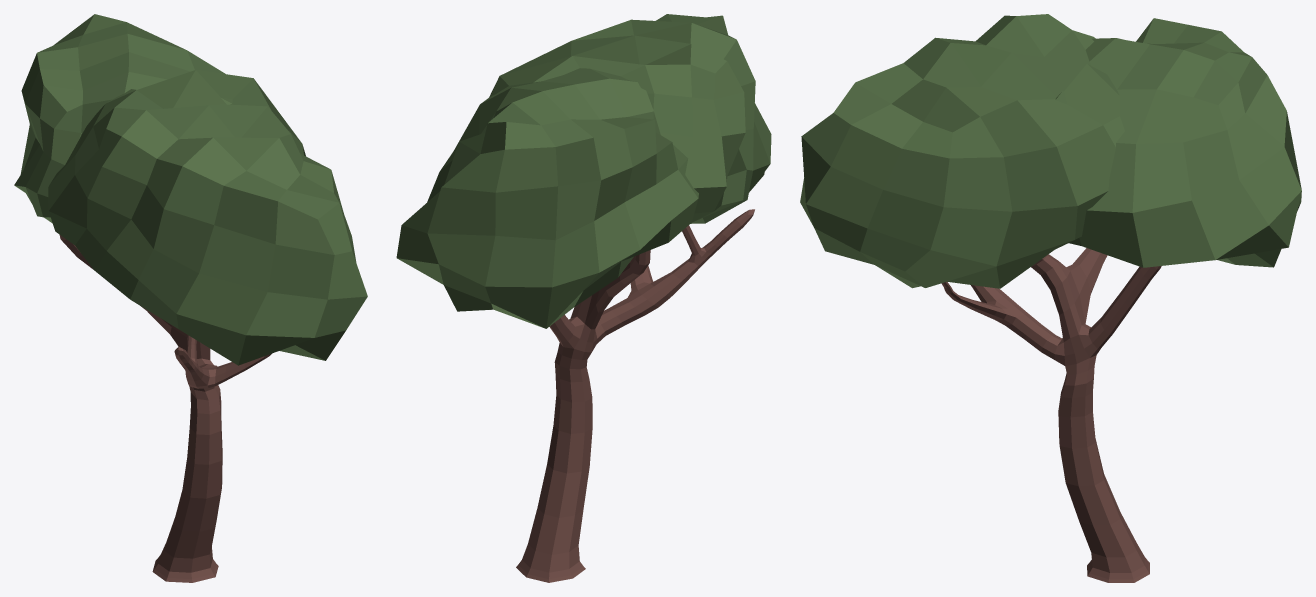
Rendered from CommonTree_5.glb.
3 renders of one model, left to right at view 1: azimuth 30°, elevation 25°; view 2: azimuth 150°, elevation 25°; view 3: azimuth 270°, elevation 25°, orthographic. The views are drawn at different scales.
Parts seen in each view (by area): view 1: CommonTree_5; view 2: CommonTree_5; view 3: CommonTree_5.
Part boxes in pixels (x1,y1,x2,y2): CommonTree_5: (14, 14, 367, 582); CommonTree_5: (396, 14, 771, 582); CommonTree_5: (800, 14, 1301, 582).
Bounding box in the file's own units: 1.29 × 2.53 × 2.25.
